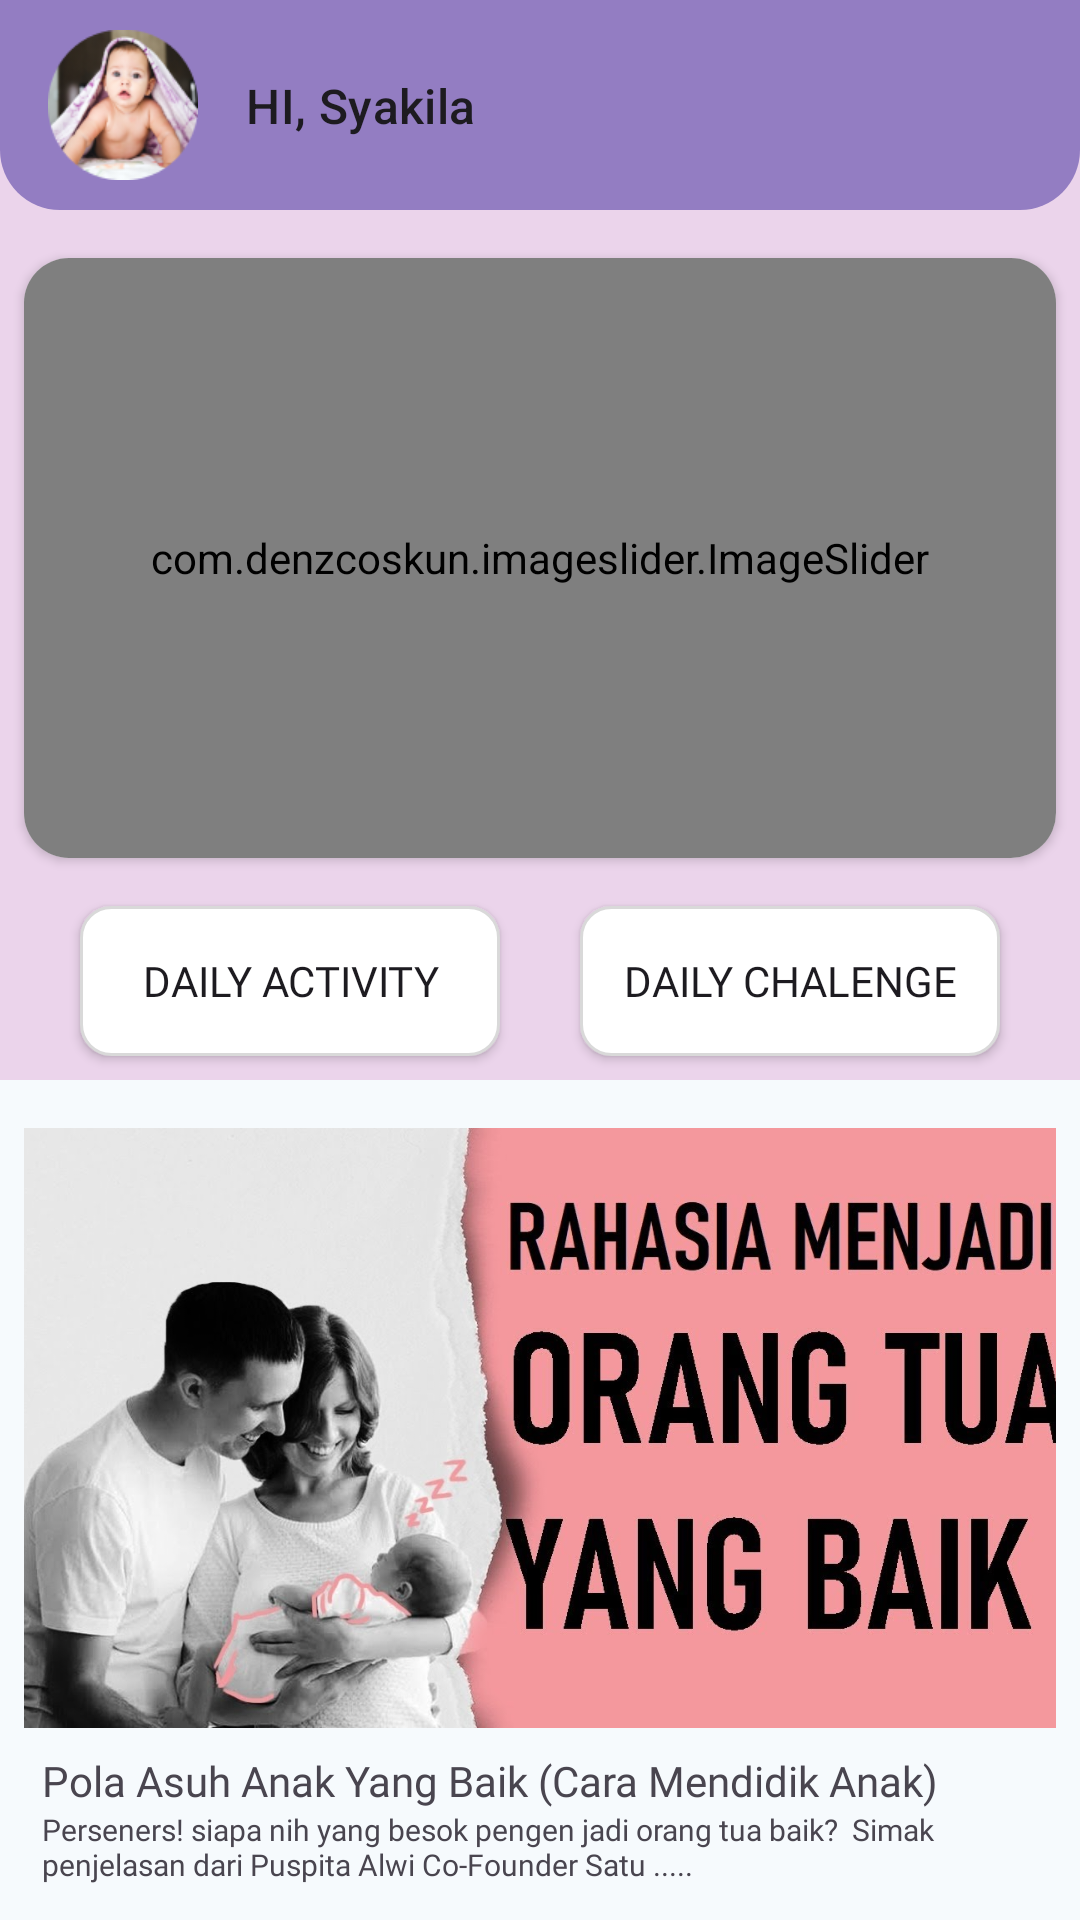

Where to tap for icons on this 1080px x 1920px app screen, as point (x, y):
profil: point (123, 105)
